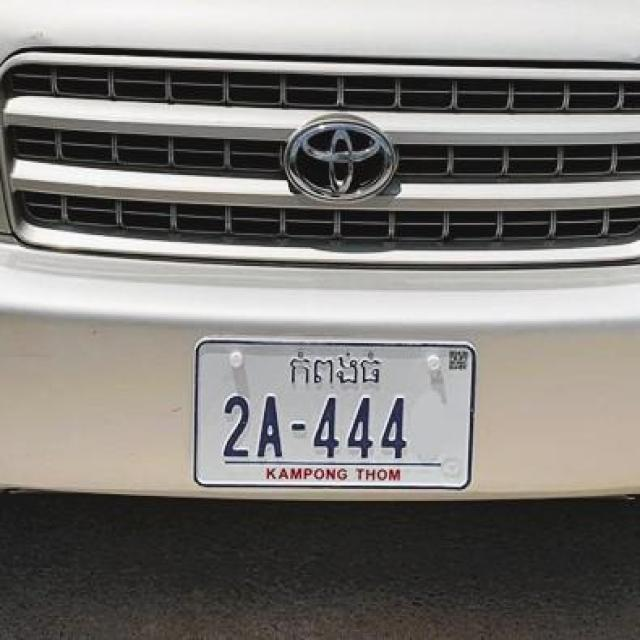Kampong_Thom: (287, 350, 384, 390)
